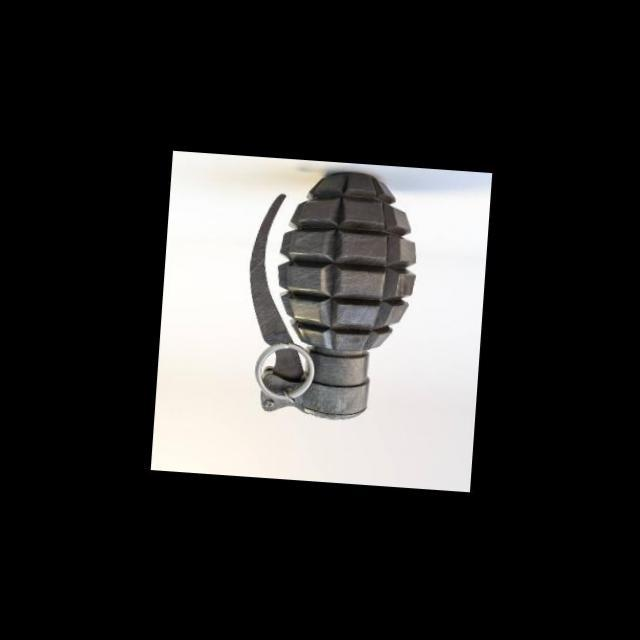grenade: (232, 167, 430, 423)
